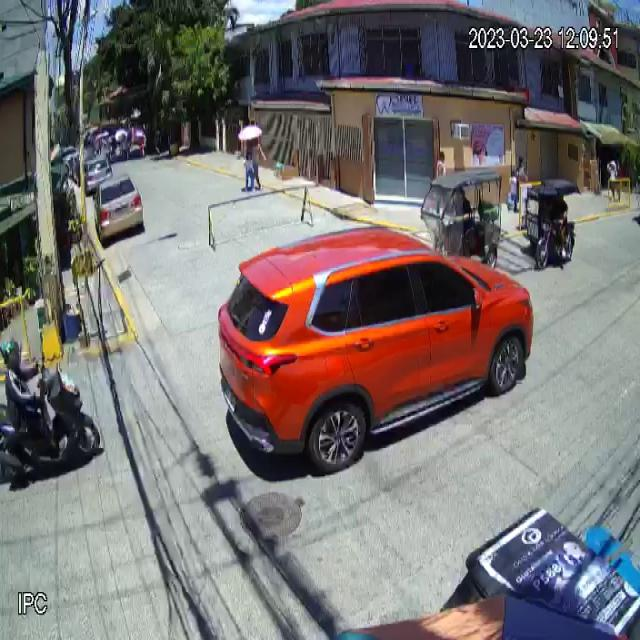Car: (219, 224, 534, 476), (92, 174, 144, 243)
